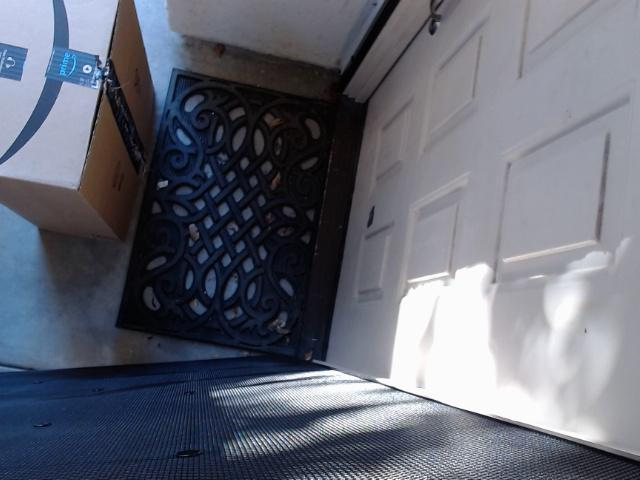box: (0, 0, 232, 248)
